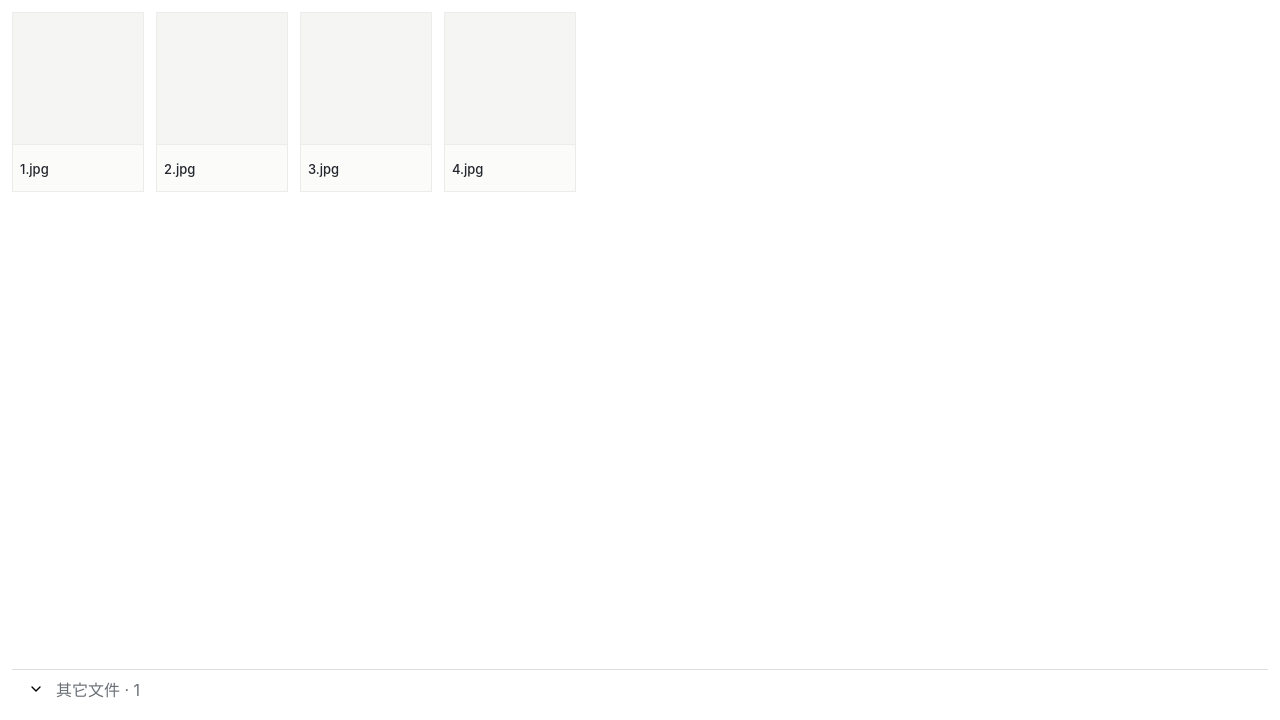
Test: ContentBrowser › clears on a background click and restores the start snapshot on Escape
Click the option "1.jpg": (78, 102) [12,12,144,192]
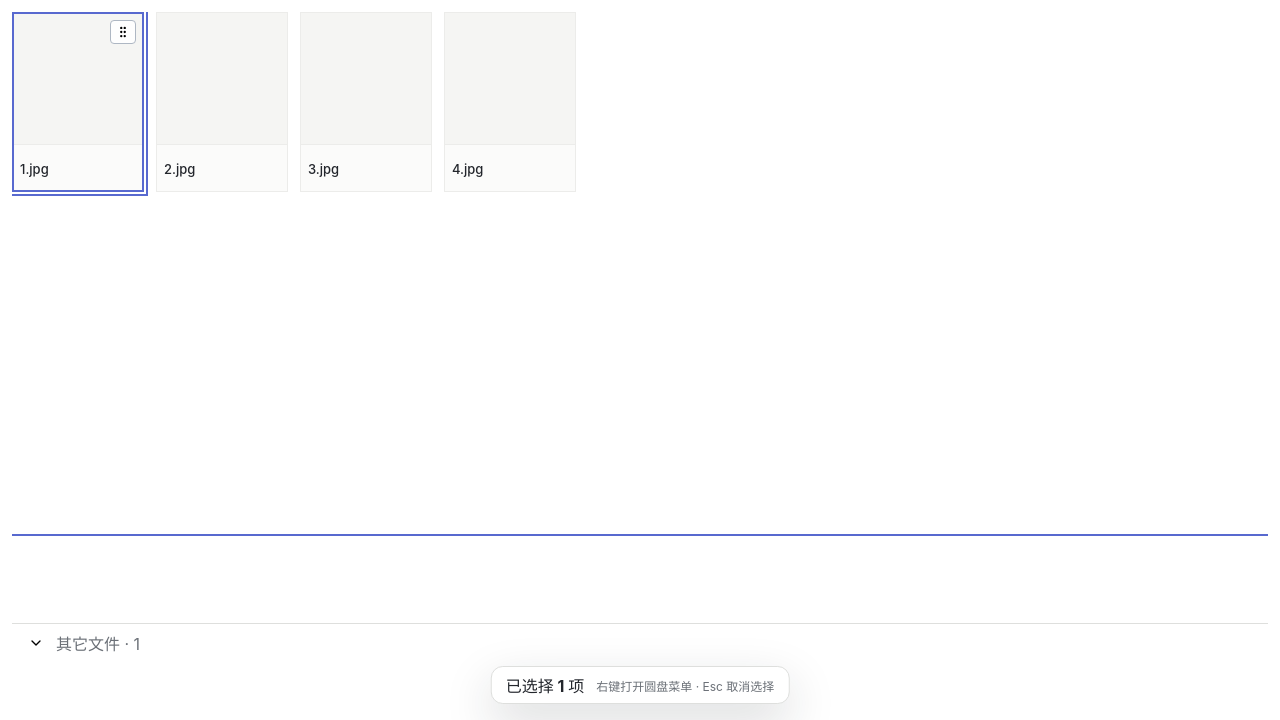
Press the mouse on the list named "图片文件": (294, 102) [12,12,576,192]
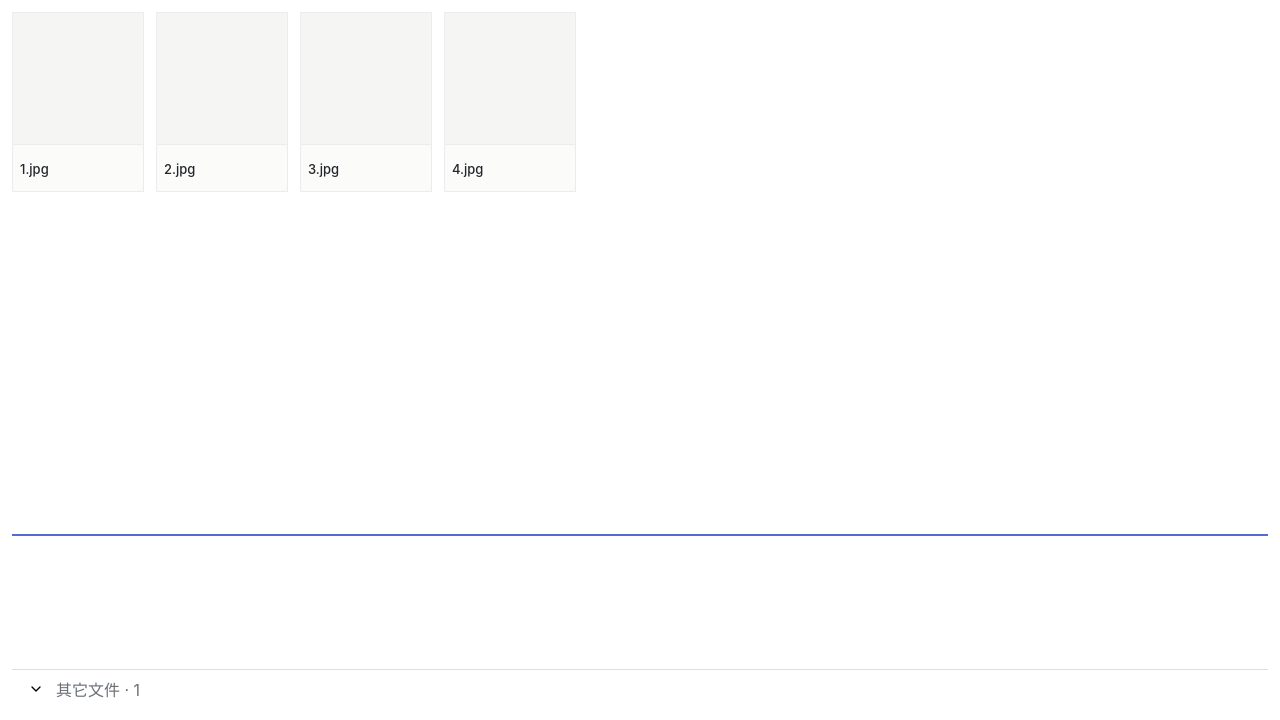
Click the option "1.jpg": (78, 102) [12,12,144,192]
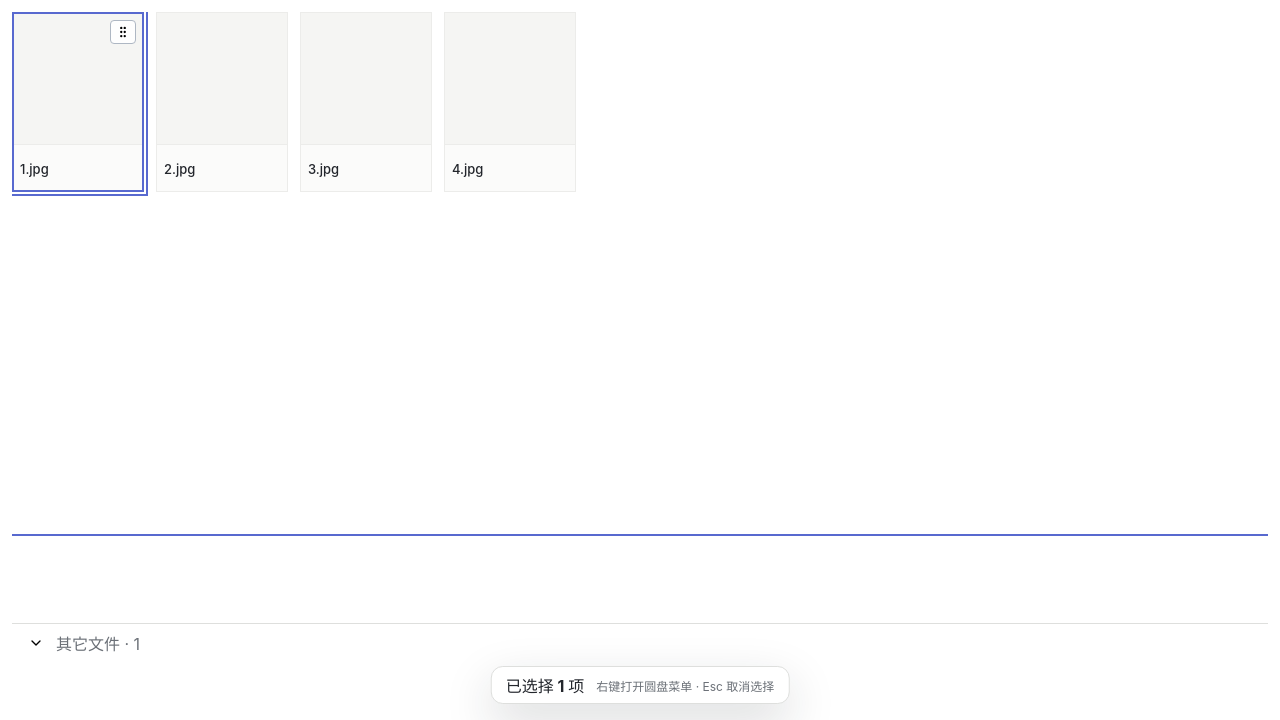
Press the mouse on the list named "图片文件": (294, 102) [12,12,576,192]
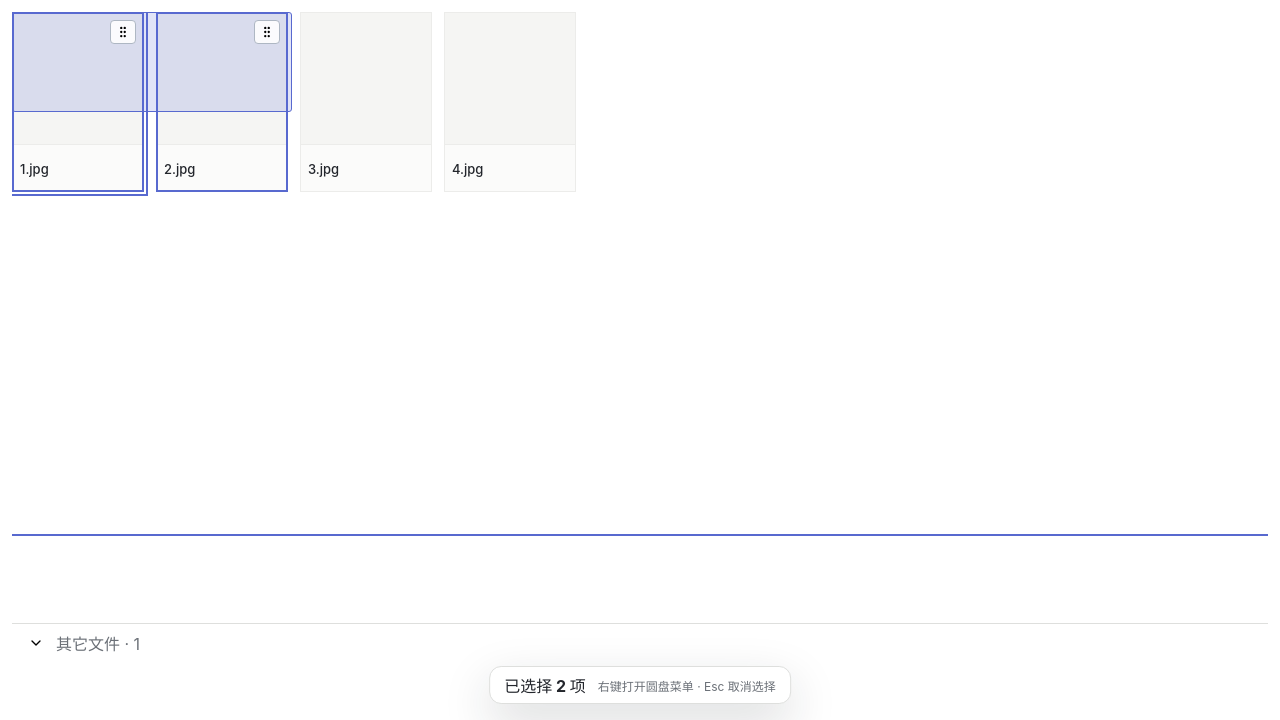
Press Escape in the list named "图片文件", box [12,12,576,192]
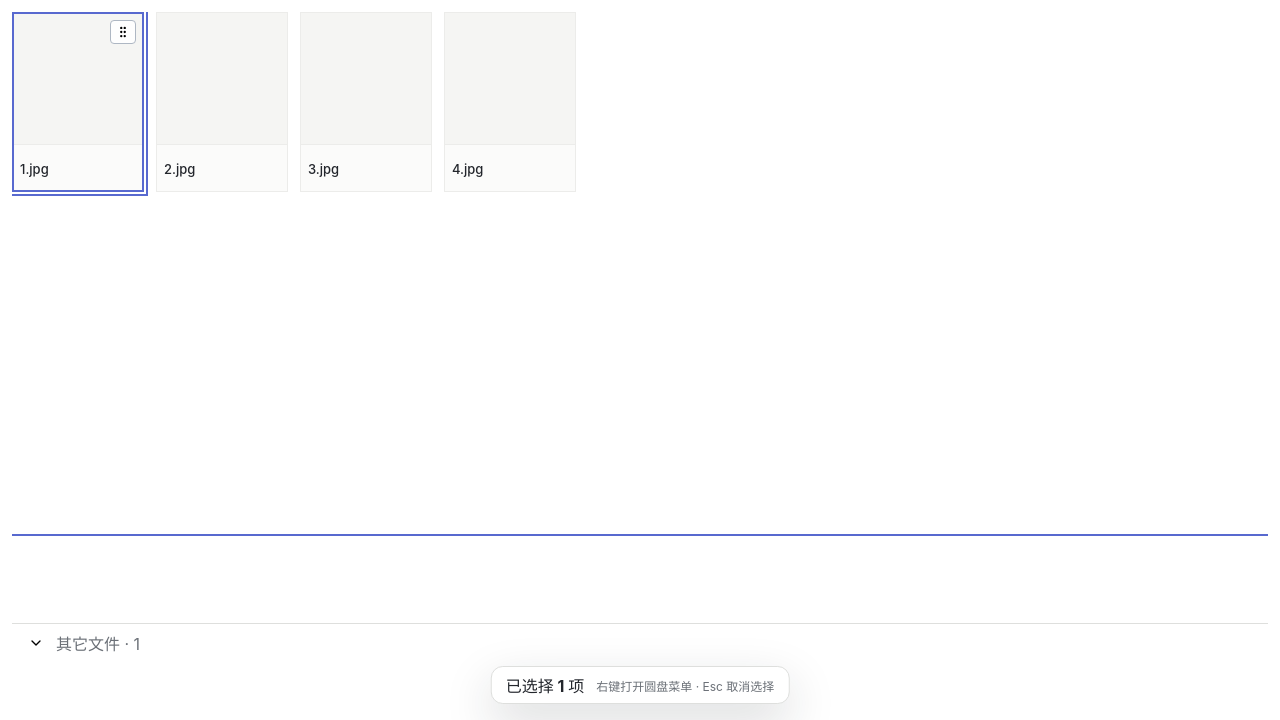
Now the element with test id "marquee-selection" is gone
